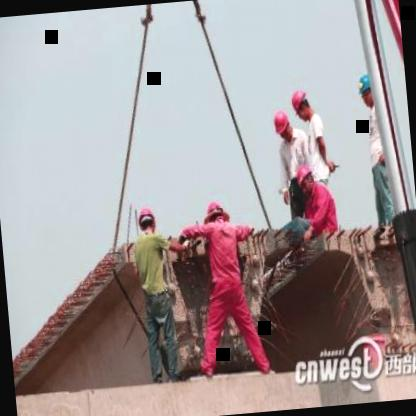helmet: (352, 68, 383, 112), (288, 84, 316, 124), (136, 201, 160, 243), (271, 107, 294, 144), (204, 196, 228, 230), (294, 162, 316, 192)
